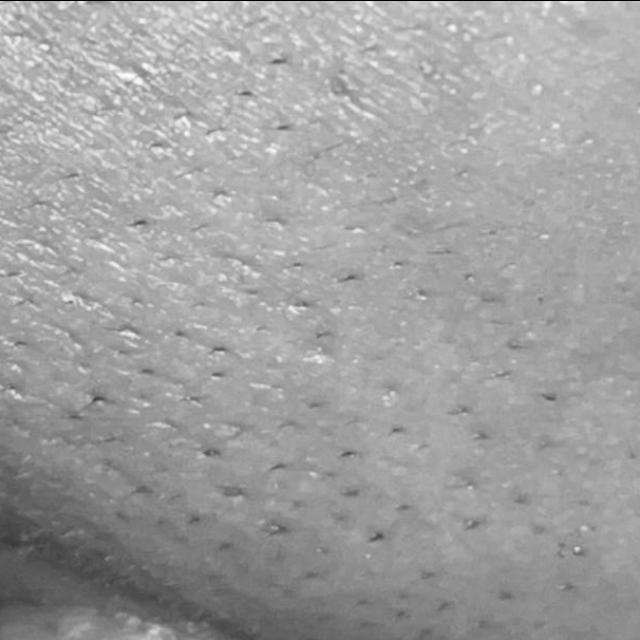blackhead: (30, 34, 618, 623)
